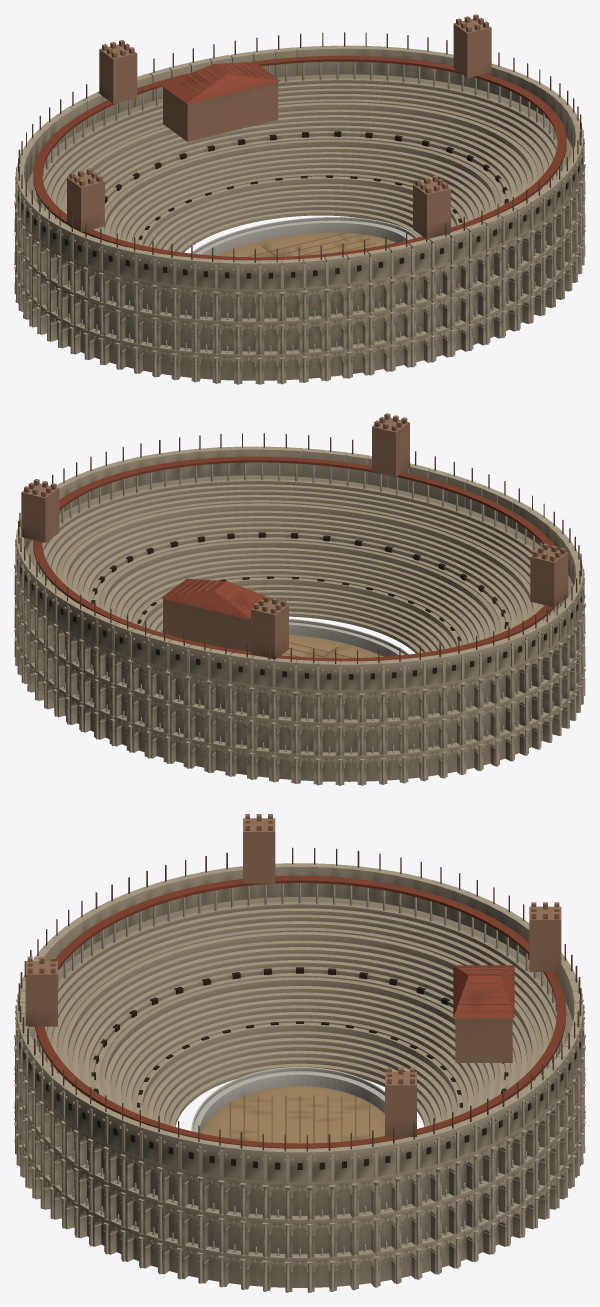
Rendered from colosseum-fortress.glb.
3 renders of one model, top to bottom at view 1: azimuth 30°, elevation 25°; view 2: azimuth 150°, elevation 25°; view 3: azimuth 270°, elevation 25°, orthographic. The views are drawn at different scales.
Visible parts, largest first — view 1: p2_storey1, p4_attic, p1_storey0, p3_storey2, p0_arena; view 2: p2_storey1, p4_attic, p1_storey0, p3_storey2, p0_arena; view 3: p2_storey1, p1_storey0, p4_attic, p3_storey2, p0_arena.
Part boxes in pixels (left/top/right/bottom): p2_storey1: left=14, top=78, right=585, bottom=355; p4_attic: left=15, top=14, right=584, bottom=289; p1_storey0: left=14, top=131, right=585, bottom=384; p3_storey2: left=14, top=55, right=585, bottom=322; p0_arena: left=190, top=217, right=417, bottom=257; p2_storey1: left=14, top=479, right=585, bottom=756; p4_attic: left=15, top=413, right=584, bottom=690; p1_storey0: left=14, top=532, right=585, bottom=785; p3_storey2: left=14, top=456, right=585, bottom=723; p0_arena: left=282, top=619, right=409, bottom=658; p2_storey1: left=14, top=901, right=585, bottom=1258; p1_storey0: left=14, top=967, right=585, bottom=1292; p4_attic: left=15, top=814, right=584, bottom=1182; p3_storey2: left=14, top=875, right=585, bottom=1220; p0_arena: left=191, top=1067, right=384, bottom=1143.
Size of the model in its own units: 193 by 60.61 by 160.
